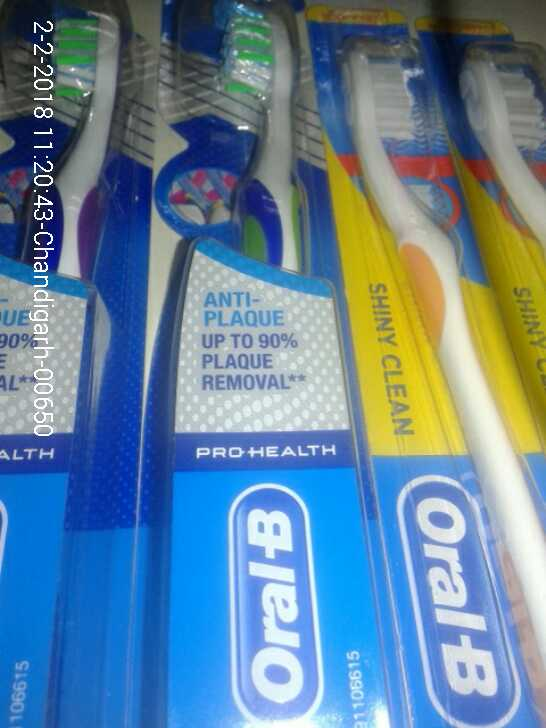oralb: (344, 1, 546, 728), (169, 1, 340, 728), (16, 5, 139, 728)
